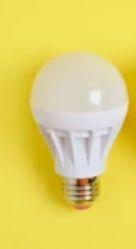light bulb: (25, 49, 132, 213)
